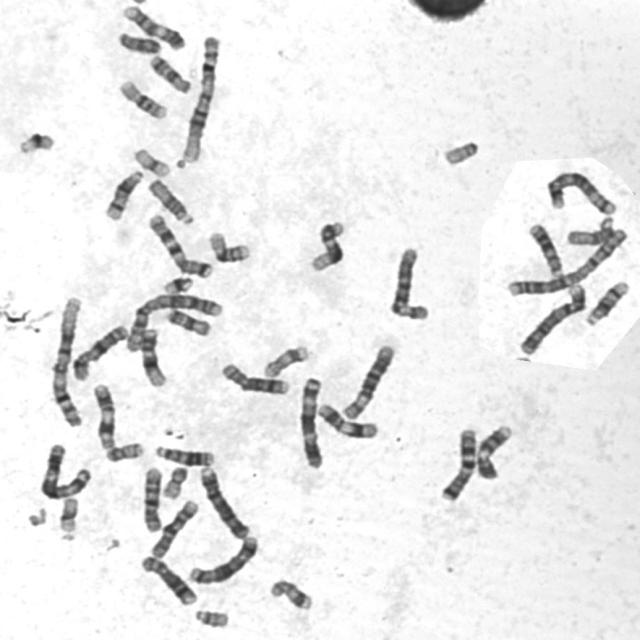A1: (176, 31, 223, 165), (47, 292, 86, 428)
A2: (501, 220, 629, 298), (122, 289, 224, 355)
A3: (37, 440, 94, 500), (296, 374, 326, 469)
B4: (516, 280, 590, 356), (195, 462, 252, 542)
B5: (184, 533, 261, 586), (542, 168, 619, 216)
C10: (147, 496, 201, 560), (138, 462, 165, 534)
C11: (313, 399, 381, 441), (89, 380, 119, 452)
C12: (306, 216, 348, 274), (136, 324, 168, 389)
C6: (338, 340, 398, 422), (386, 243, 432, 322)
C7: (144, 210, 215, 280), (436, 423, 480, 504)
C8: (136, 552, 199, 608), (218, 359, 292, 397)
C9: (119, 1, 188, 52), (473, 420, 516, 481)
D13: (525, 219, 566, 279), (151, 442, 217, 468)
D14: (100, 165, 146, 222), (582, 278, 632, 327)
D15: (144, 175, 196, 226), (563, 214, 618, 247)
E16: (114, 76, 170, 121), (205, 227, 253, 264)
E17: (260, 342, 312, 380), (266, 575, 316, 613)
E18: (145, 51, 194, 95), (162, 305, 214, 338)
F19: (129, 143, 173, 179), (55, 493, 81, 533)
F20: (158, 462, 190, 500), (102, 438, 147, 464)
G21: (15, 126, 57, 156), (159, 272, 196, 295)
G22: (438, 136, 481, 167), (191, 606, 231, 630)
X: (68, 320, 131, 383)
Y: (114, 27, 164, 56)
